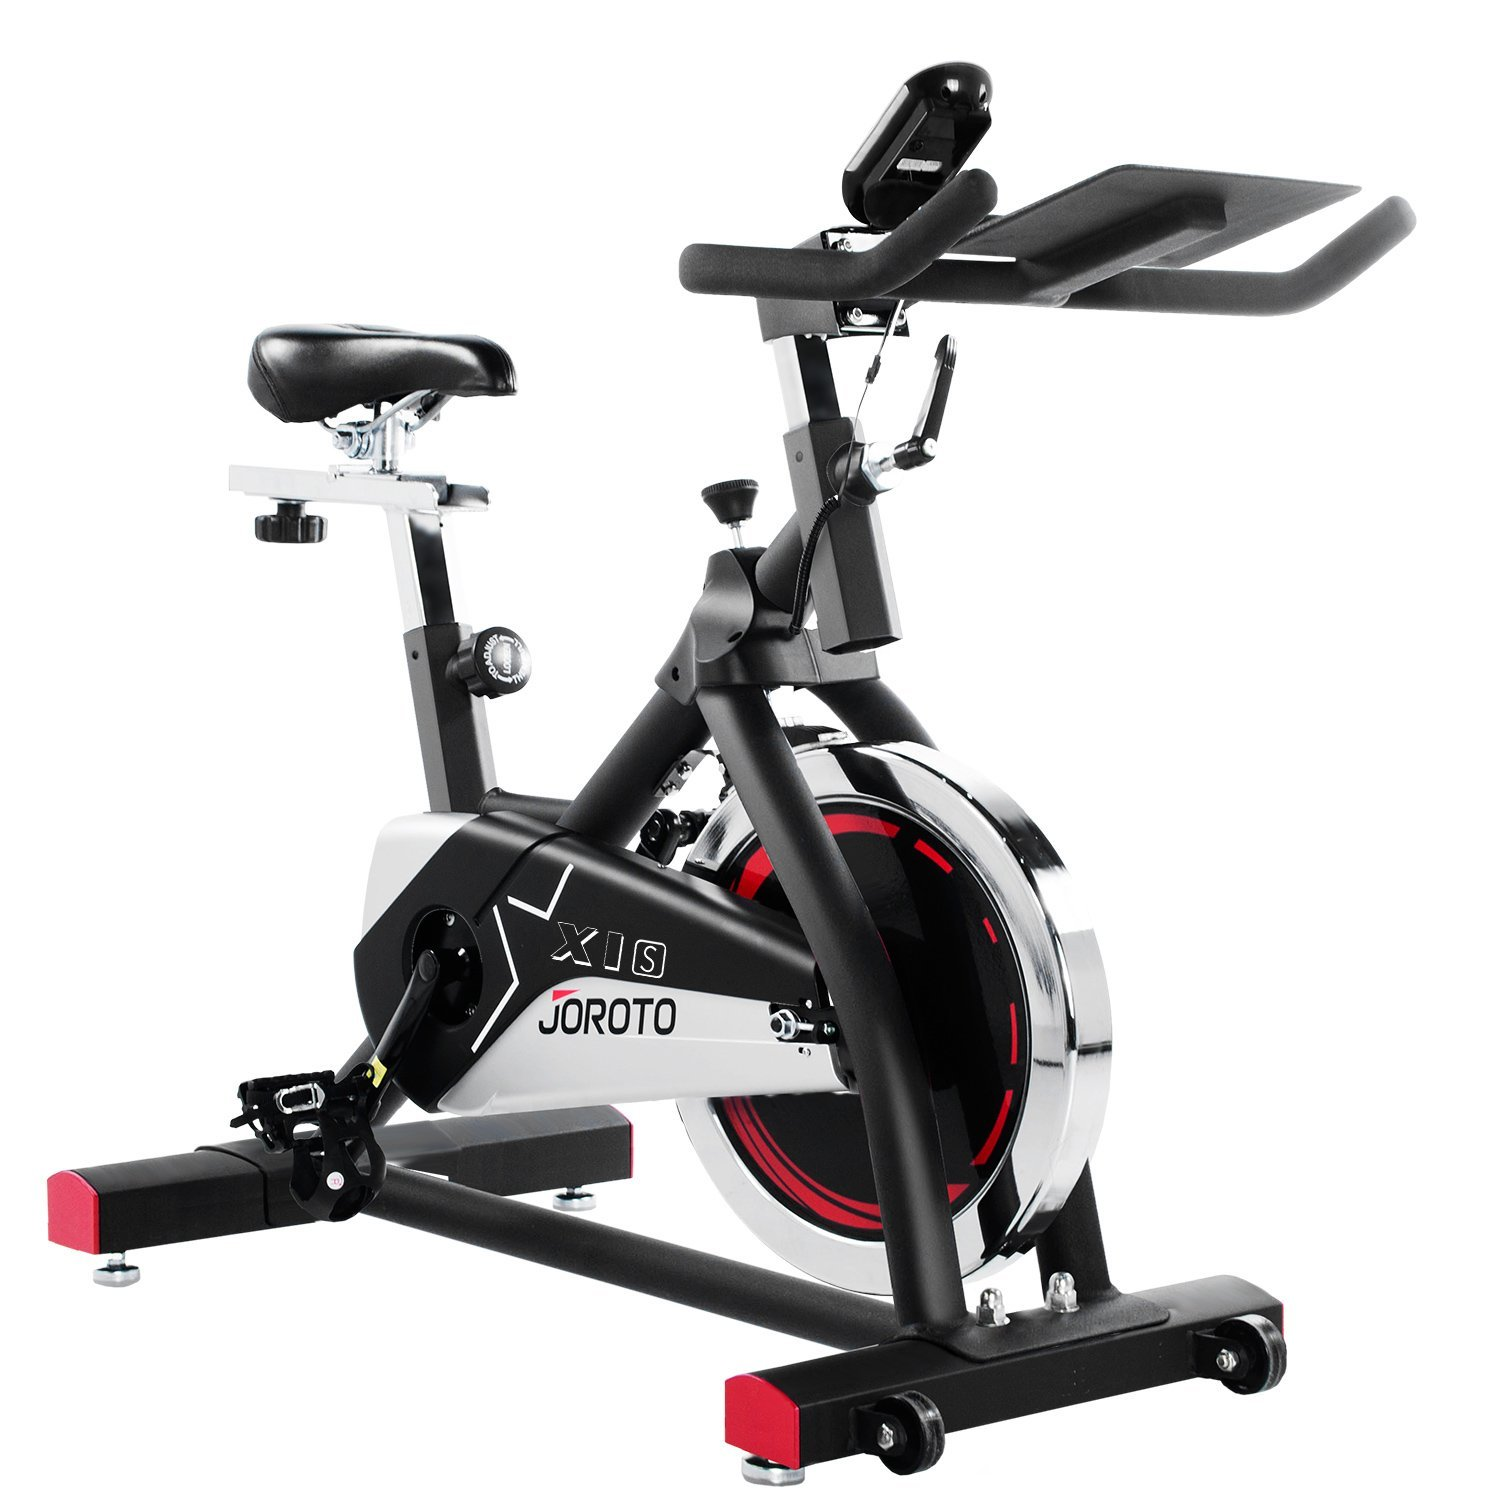gym_bike: (44, 60, 1418, 1484)
